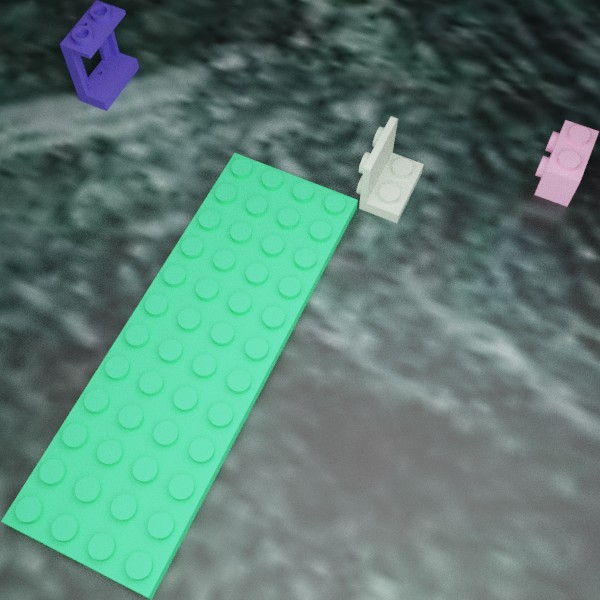lego: (1, 152, 357, 599), (59, 0, 139, 111), (356, 116, 423, 223), (534, 120, 598, 206)
